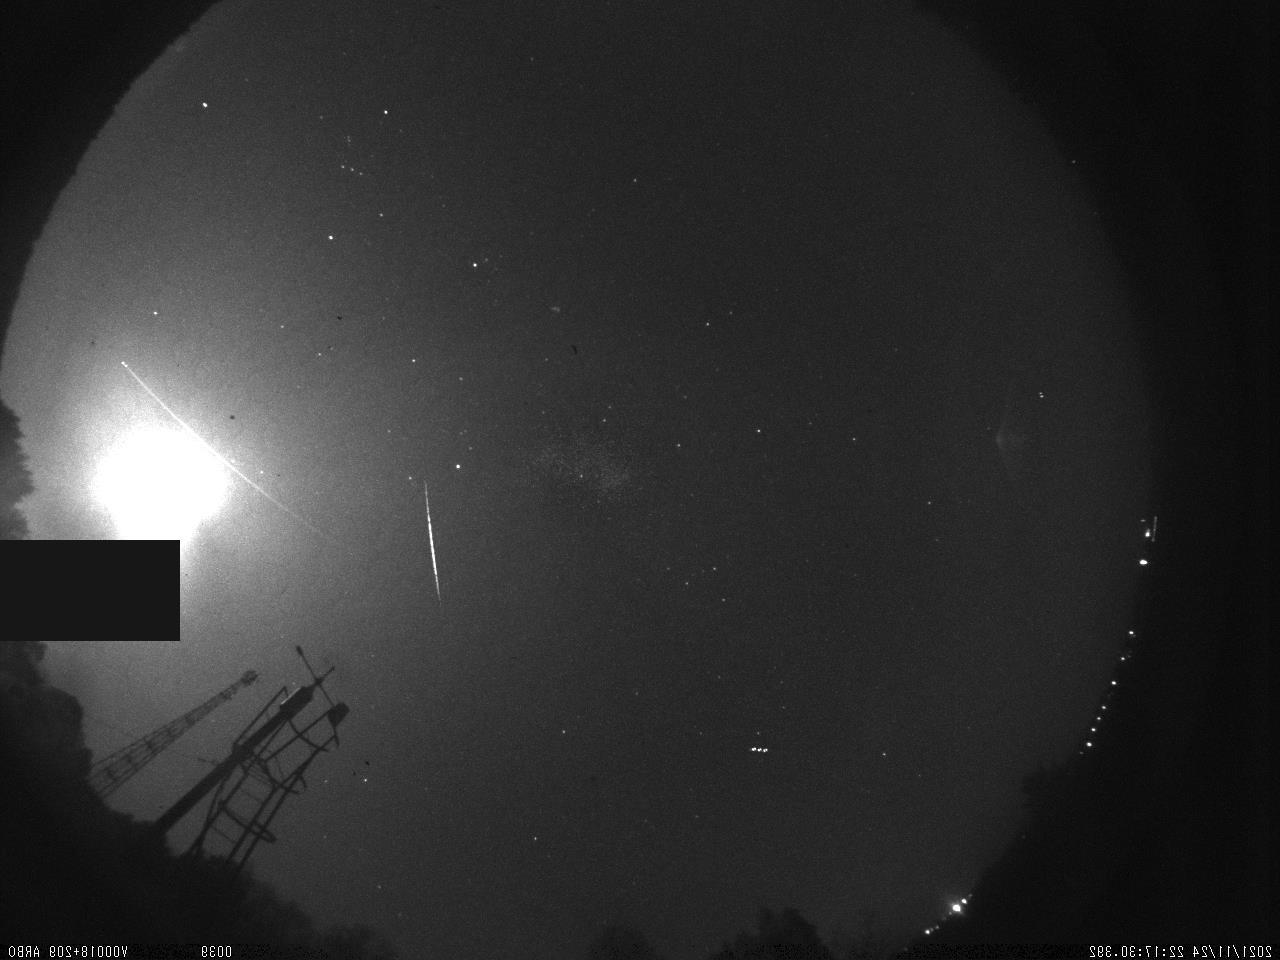meteor: (411, 470, 445, 598)
